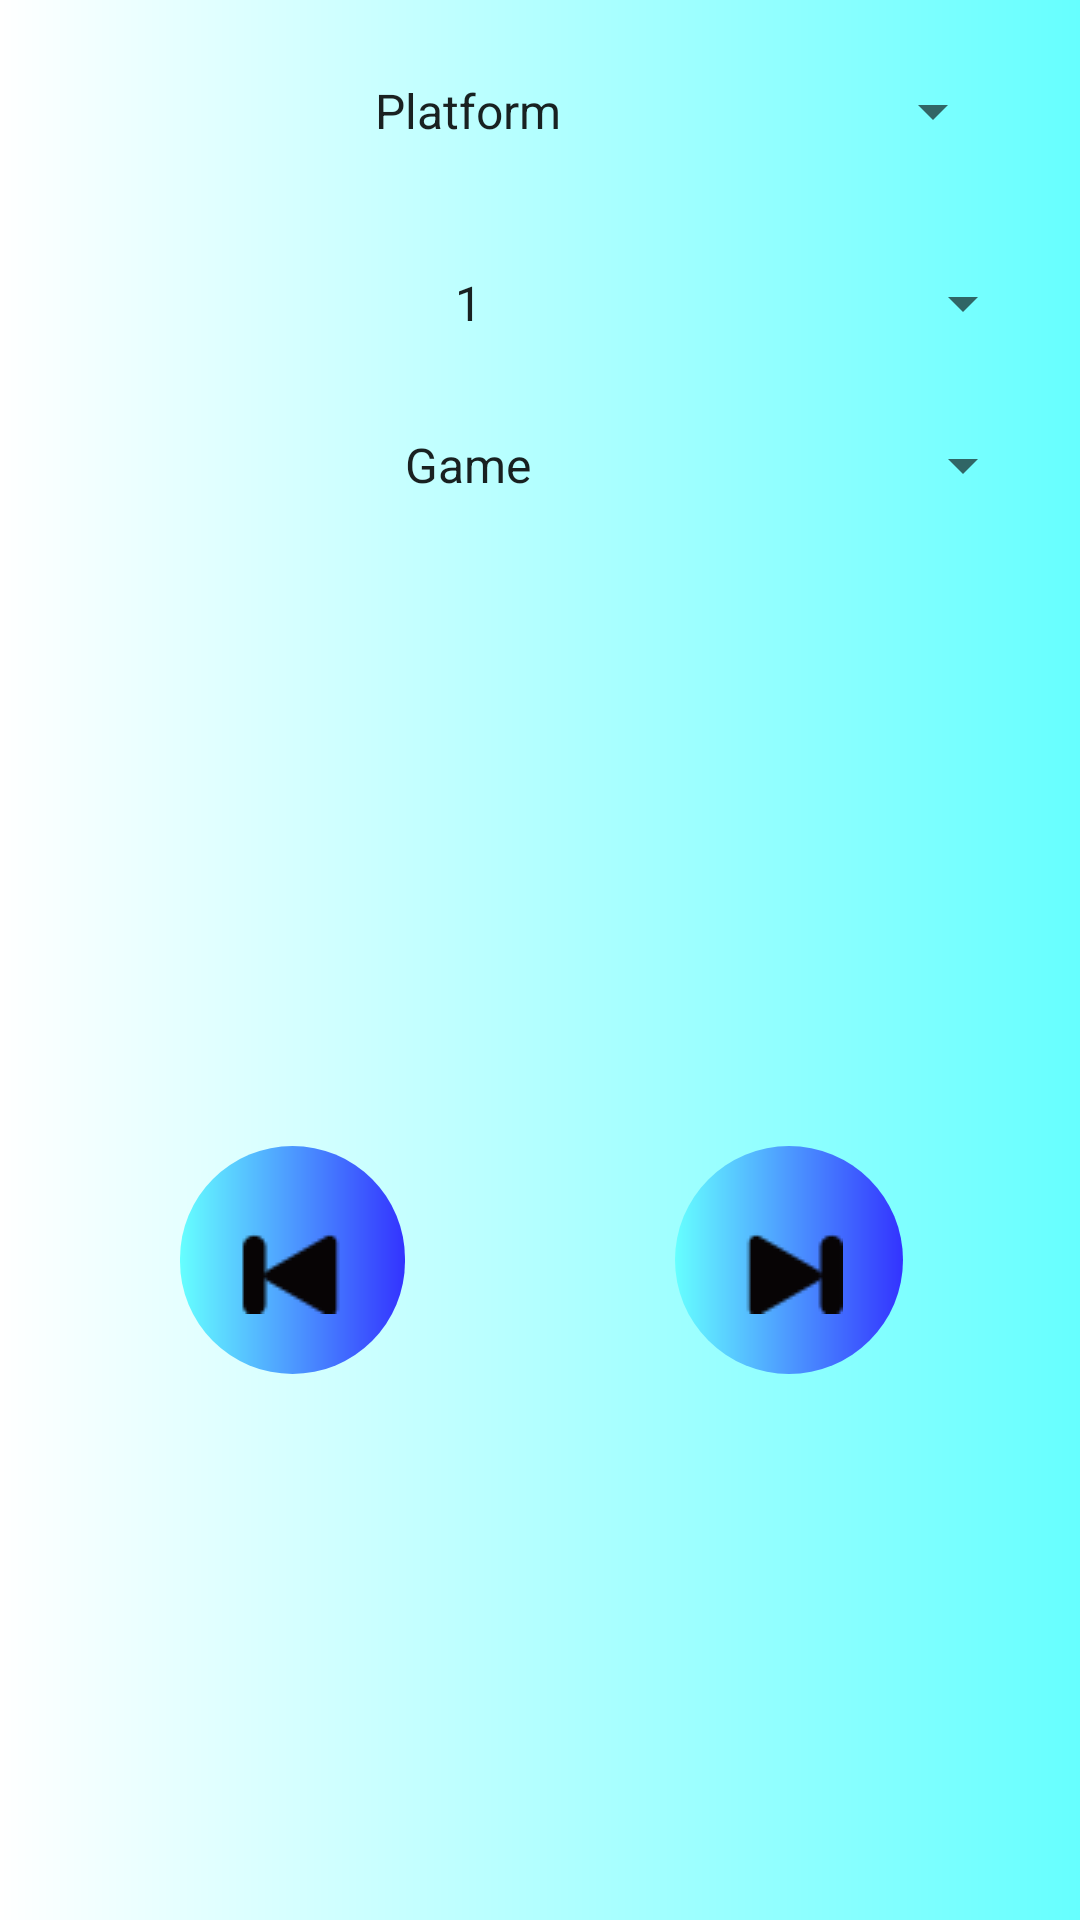

Point at icon controls on the screen. Image size 1080px x 1920px, points as (x=x, y=y).
backwardsbutton: (x=292, y=1260)
forwardbutton: (x=789, y=1260)
